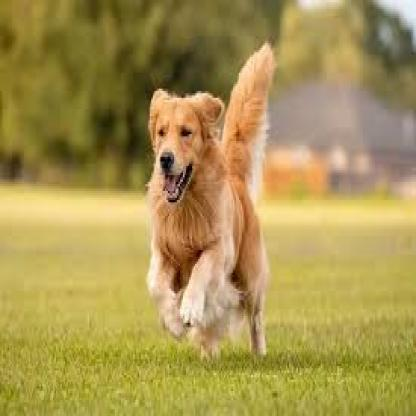Golden Retriever: (141, 40, 296, 361)
